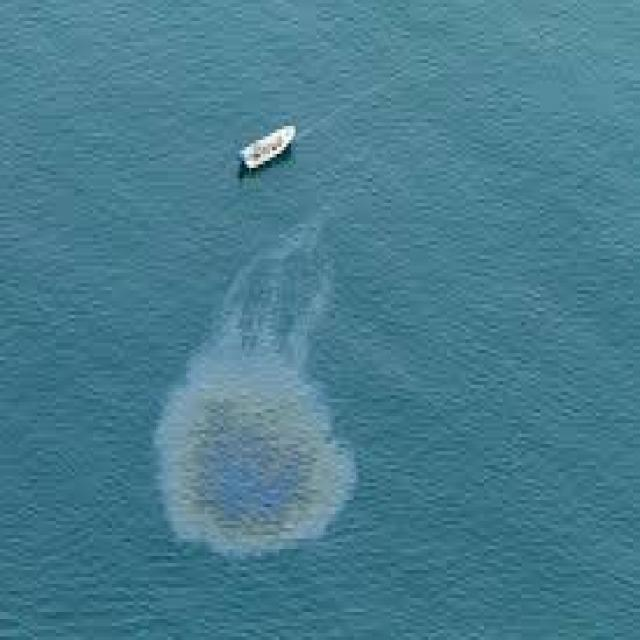sheen: (156, 343, 356, 556)
